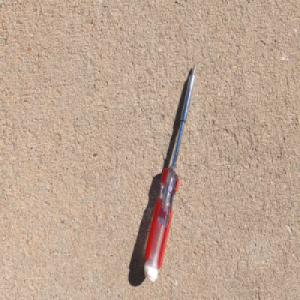Screwdriver: (142, 62, 197, 285)
